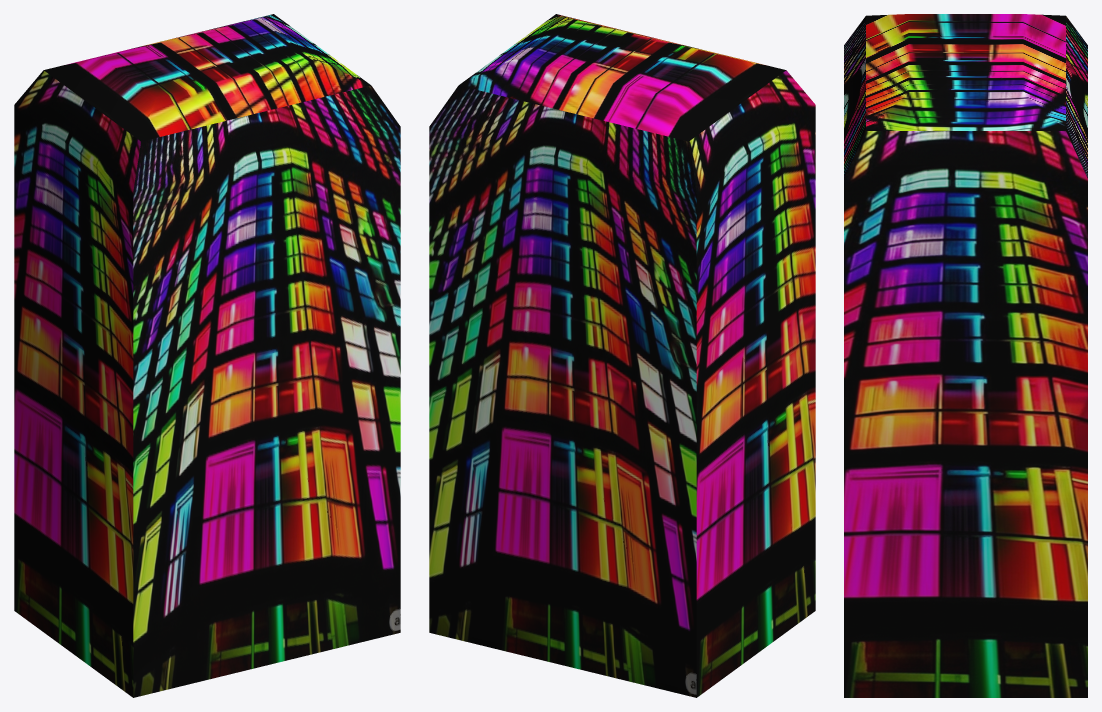
The model's file is Edificio2.fbx.
The picture shows the model from 3 angles, left to right: view 1: azimuth 30°, elevation 25°; view 2: azimuth 150°, elevation 25°; view 3: azimuth 270°, elevation 25°; orthographic projection. The views are drawn at different scales.
Parts seen in each view (by area): view 1: Box001; view 2: Box001; view 3: Box001.
Part boxes in pixels (box(x1,y1,x2,y2)): Box001: box(14, 14, 400, 697); Box001: box(429, 14, 815, 697); Box001: box(844, 14, 1087, 697).
Size of the model in its own units: 28.2 by 56.8 by 21.74.
Materials: 1 (1 with a texture image).
